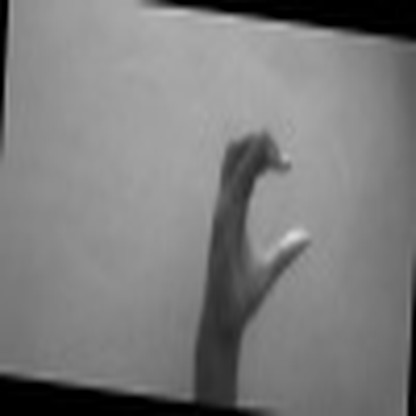c: (202, 118, 315, 317)
